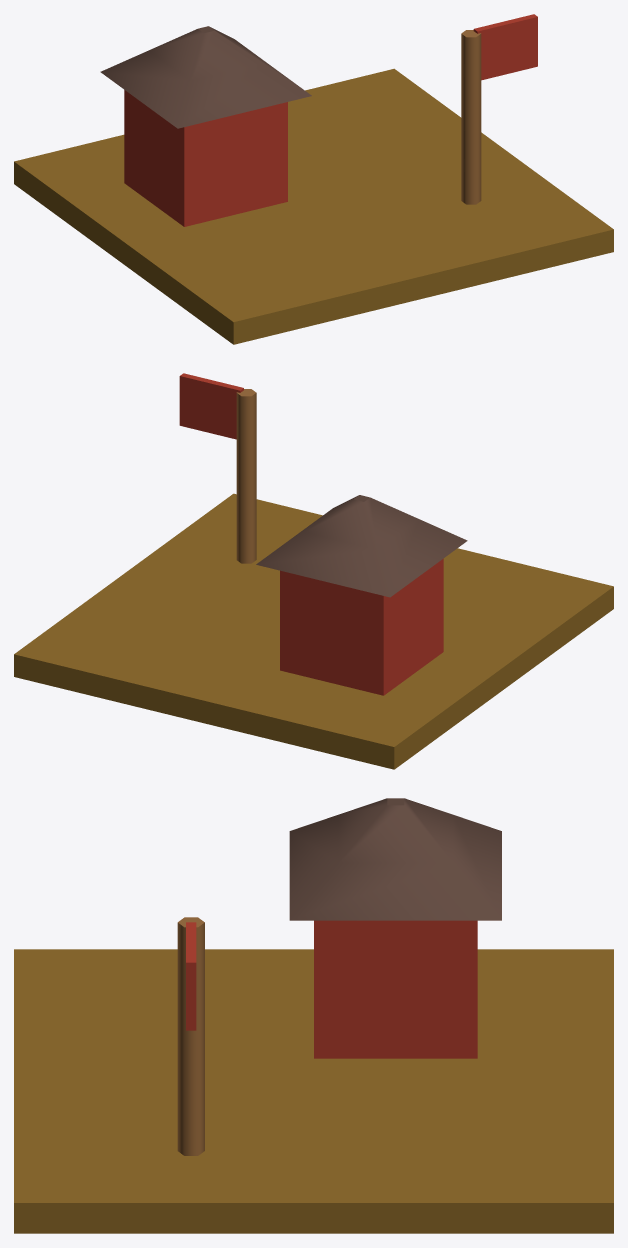
Rendered from shou_fu_qu.glb.
The picture shows the model from 3 angles, top to bottom: view 1: azimuth 30°, elevation 25°; view 2: azimuth 150°, elevation 25°; view 3: azimuth 270°, elevation 25°; orthographic projection. The views are drawn at different scales.
Visible parts, largest first — view 1: _MeshInstance3D_138, _MeshInstance3D_139, _MeshInstance3D_140, _MeshInstance3D_141, _MeshInstance3D_142; view 2: _MeshInstance3D_138, _MeshInstance3D_139, _MeshInstance3D_140, _MeshInstance3D_141, _MeshInstance3D_142; view 3: _MeshInstance3D_138, _MeshInstance3D_140, _MeshInstance3D_139, _MeshInstance3D_141, _MeshInstance3D_142.
Boxes of the visible parts, box(x1,y1,x2,y2) form: _MeshInstance3D_138: box(14, 68, 613, 344); _MeshInstance3D_139: box(124, 90, 287, 226); _MeshInstance3D_140: box(100, 26, 311, 128); _MeshInstance3D_141: box(461, 30, 481, 204); _MeshInstance3D_142: box(473, 14, 537, 80); _MeshInstance3D_138: box(14, 493, 613, 769); _MeshInstance3D_139: box(280, 558, 443, 695); _MeshInstance3D_140: box(256, 495, 467, 597); _MeshInstance3D_141: box(236, 389, 256, 563); _MeshInstance3D_142: box(179, 373, 243, 439); _MeshInstance3D_138: box(14, 949, 613, 1233); _MeshInstance3D_140: box(289, 798, 501, 920); _MeshInstance3D_139: box(314, 920, 477, 1058); _MeshInstance3D_141: box(177, 917, 204, 1155); _MeshInstance3D_142: box(186, 922, 196, 1030).
Size of the model in its own units: 0.88 by 0.425 by 0.88.
